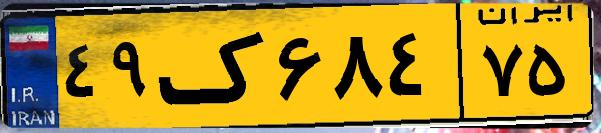4: (385, 28, 445, 110), (57, 26, 110, 100)
5: (525, 38, 570, 115)
6: (270, 28, 330, 110)
7: (475, 38, 525, 113)
8: (330, 28, 385, 110)
9: (110, 28, 158, 98)
ک: (158, 12, 270, 120)
